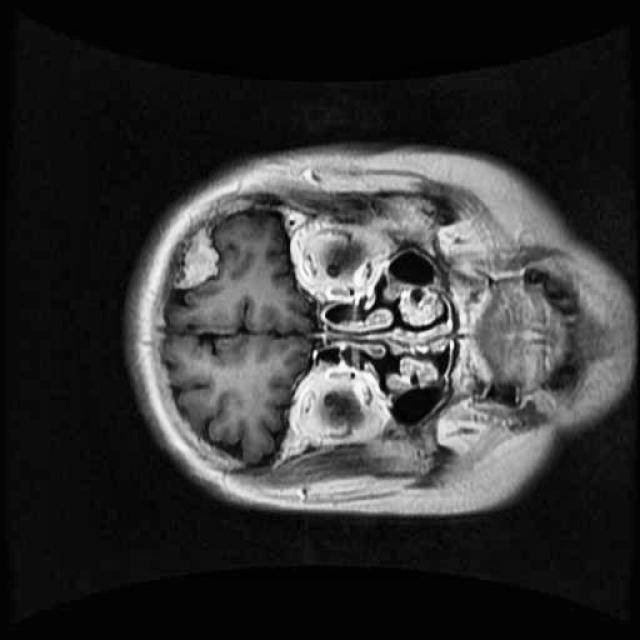Tumor: (158, 219, 235, 298)
